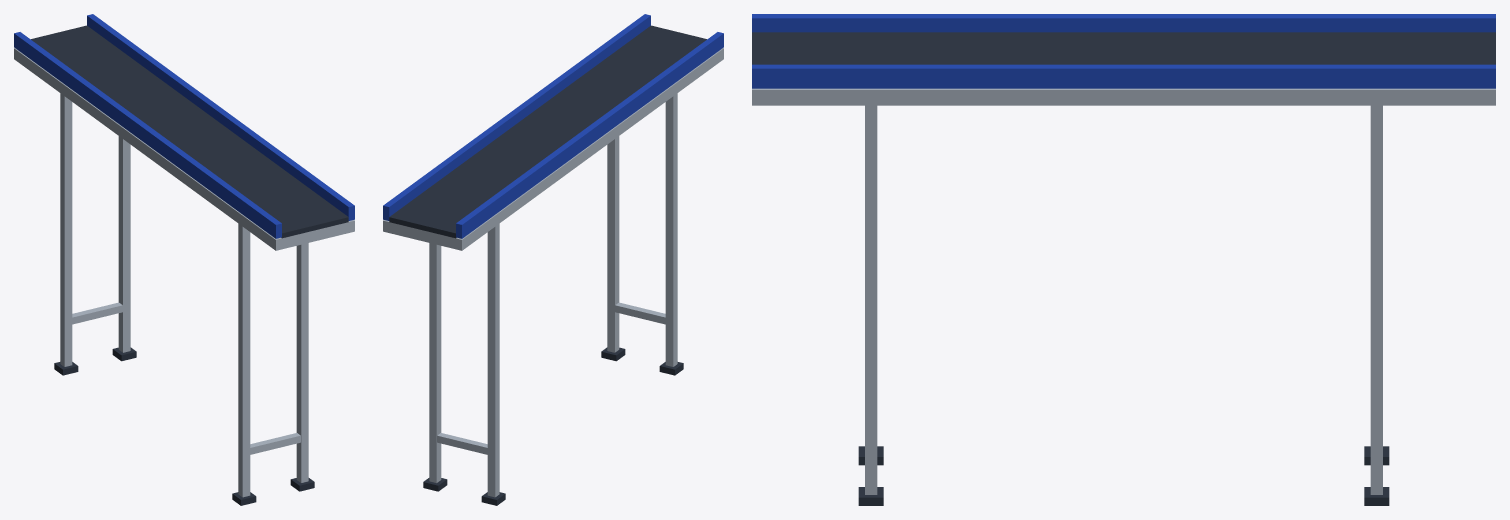
File: SM_MPR_CADFeedTerminal.fbx
The picture shows the model from 3 angles, left to right: view 1: azimuth 30°, elevation 25°; view 2: azimuth 150°, elevation 25°; view 3: azimuth 270°, elevation 25°; orthographic projection. The views are drawn at different scales.
Visible parts, largest first — view 1: SM_MPR_CADFeedTerminal; view 2: SM_MPR_CADFeedTerminal; view 3: SM_MPR_CADFeedTerminal.
Part boxes in pixels (x1,y1,x2,y2): SM_MPR_CADFeedTerminal: (14, 14, 354, 505); SM_MPR_CADFeedTerminal: (383, 14, 723, 505); SM_MPR_CADFeedTerminal: (752, 14, 1495, 505).
Size of the model in its own units: 41.5 by 238 by 155.
